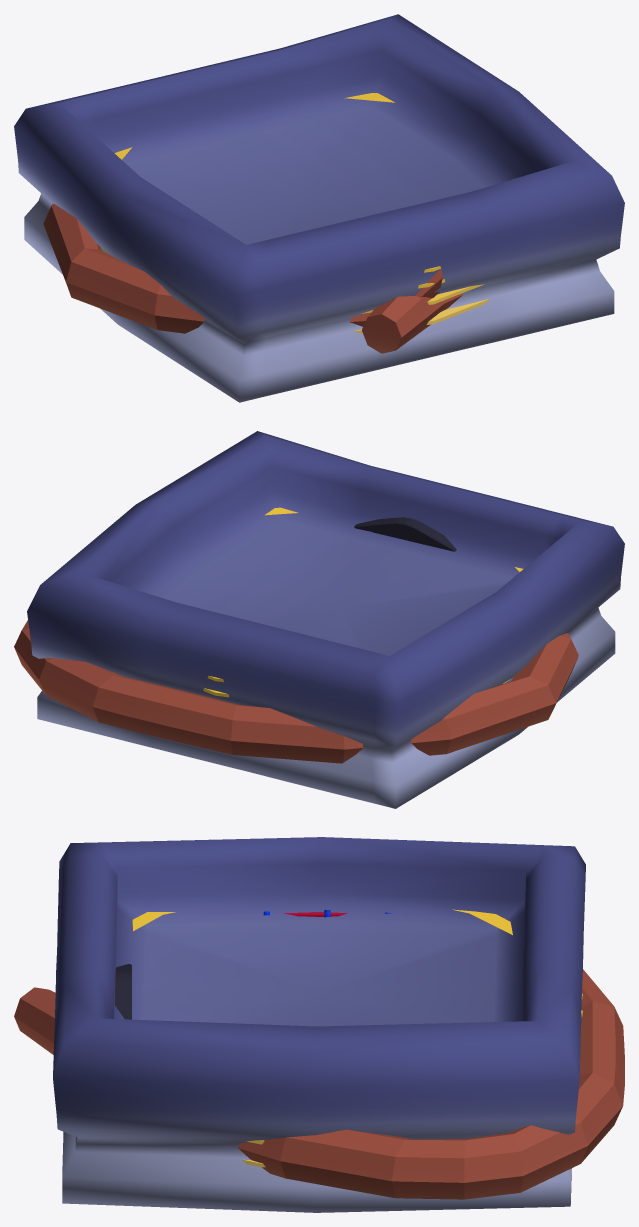
File: ObbyGame_Characters_wristAccs_.fbx
3 views of the same model, one above another, from view 1: azimuth 30°, elevation 25°; view 2: azimuth 150°, elevation 25°; view 3: azimuth 270°, elevation 25° (orthographic). The views are drawn at different scales.
Visible parts, largest first — view 1: ObbyGame_Characters_wristAcc_000, ObbyGame_Characters_wristAcc_001, ObbyGame_Characters_wristAcc_003; view 2: ObbyGame_Characters_wristAcc_000, ObbyGame_Characters_wristAcc_001, ObbyGame_Characters_wristAcc_002; view 3: ObbyGame_Characters_wristAcc_000, ObbyGame_Characters_wristAcc_001, ObbyGame_Characters_wristAcc_002, ObbyGame_Characters_wristAcc_003.
Part boxes in pixels (bbox=[...]): ObbyGame_Characters_wristAcc_000: bbox=[14, 14, 624, 402]; ObbyGame_Characters_wristAcc_001: bbox=[43, 204, 462, 353]; ObbyGame_Characters_wristAcc_003: bbox=[101, 93, 489, 333]; ObbyGame_Characters_wristAcc_000: bbox=[27, 431, 624, 808]; ObbyGame_Characters_wristAcc_001: bbox=[14, 620, 578, 763]; ObbyGame_Characters_wristAcc_002: bbox=[354, 517, 456, 551]; ObbyGame_Characters_wristAcc_000: bbox=[53, 837, 585, 1212]; ObbyGame_Characters_wristAcc_001: bbox=[14, 969, 624, 1199]; ObbyGame_Characters_wristAcc_002: bbox=[115, 910, 390, 1019]; ObbyGame_Characters_wristAcc_003: bbox=[132, 909, 582, 1167].
Size of the model in its own units: 76.32 by 24.81 by 71.37.
Materials: 1 (1 with a texture image).
